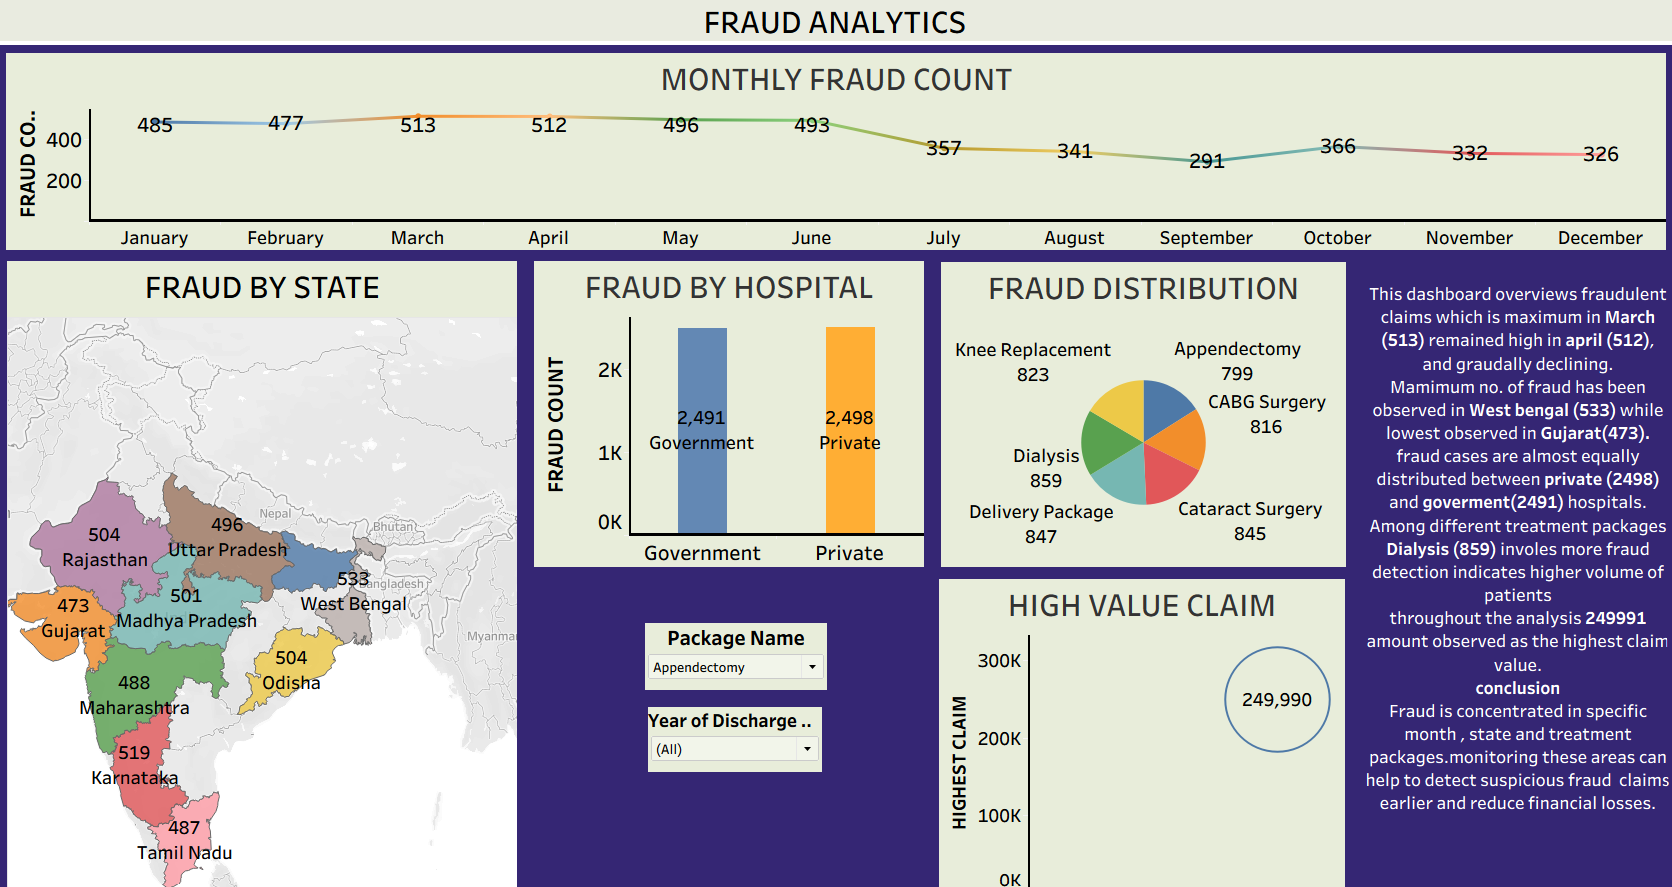

What the dashboard file says about the page in this screenshot:
{"tool":"tableau","page":{"name":"FRAUD ANALYTICS","canvas":[1000,1000],"units":"permille","ordinal":1},"visuals":[{"type":"title","box":[4.9,8,990.2,49]},{"type":"worksheet","title":"MONTHLY FRAUD TREND","mark":"Automatic","rows":["Calculation_0320805893271558"],"cols":["Discharge_Date"],"box":[12.2,65,976.8,197]},{"type":"worksheet","title":"FRAUD BY STATE","mark":"Multipolygon","box":[12.8,273,300.4,702]},{"type":"worksheet","title":"FRAUD BY HOSPITAL","mark":"Automatic","rows":["Calculation_0320805893271558"],"cols":["Hospital_Type"],"box":[323,273,229.1,306]},{"type":"worksheet","title":"FRAUD DISTRIBUTION","mark":"Pie","box":[562.5,274,238.3,305]},{"type":"text","box":[809.9,276,183.4,586]},{"type":"worksheet","title":"HIGH VALUE CLAIM","mark":"Shape","rows":["Calculation_0320805895213064"],"cols":["Calculation_1143515301589004"],"box":[561.2,591,238.9,385]},{"type":"filter","title":"HIGH VALUE CLAIM","param":"[federated.1jsaujx1js1zzq111lixo1foi2vq].[none:Package_Name:nk]","box":[388.2,635,107.2,67]},{"type":"filter","title":"MONTHLY FRAUD TREND","param":"[federated.1jsaujx1js1zzq111lixo1foi2vq].[yr:Discharge_Date:ok]","box":[390,719,102.4,65]}]}

Visuals, with their boxes on the dashboard's canvas, which has no fixed pixel size, in thousandths of its width and height (x1, y1, x2, y2). These are canvas units, not pixel positions in the 1672x887 screenshot, which may show the page scaled, cropped or inside an application window:
title: box=[5, 8, 995, 57]
"MONTHLY FRAUD TREND" worksheet: box=[12, 65, 989, 262]
"FRAUD BY STATE" worksheet (Multipolygon marks): box=[13, 273, 313, 975]
"FRAUD BY HOSPITAL" worksheet: box=[323, 273, 552, 579]
"FRAUD DISTRIBUTION" worksheet (Pie marks): box=[562, 274, 801, 579]
text: box=[810, 276, 993, 862]
"HIGH VALUE CLAIM" worksheet (Shape marks): box=[561, 591, 800, 976]
"HIGH VALUE CLAIM" filter: box=[388, 635, 495, 702]
"MONTHLY FRAUD TREND" filter: box=[390, 719, 492, 784]
